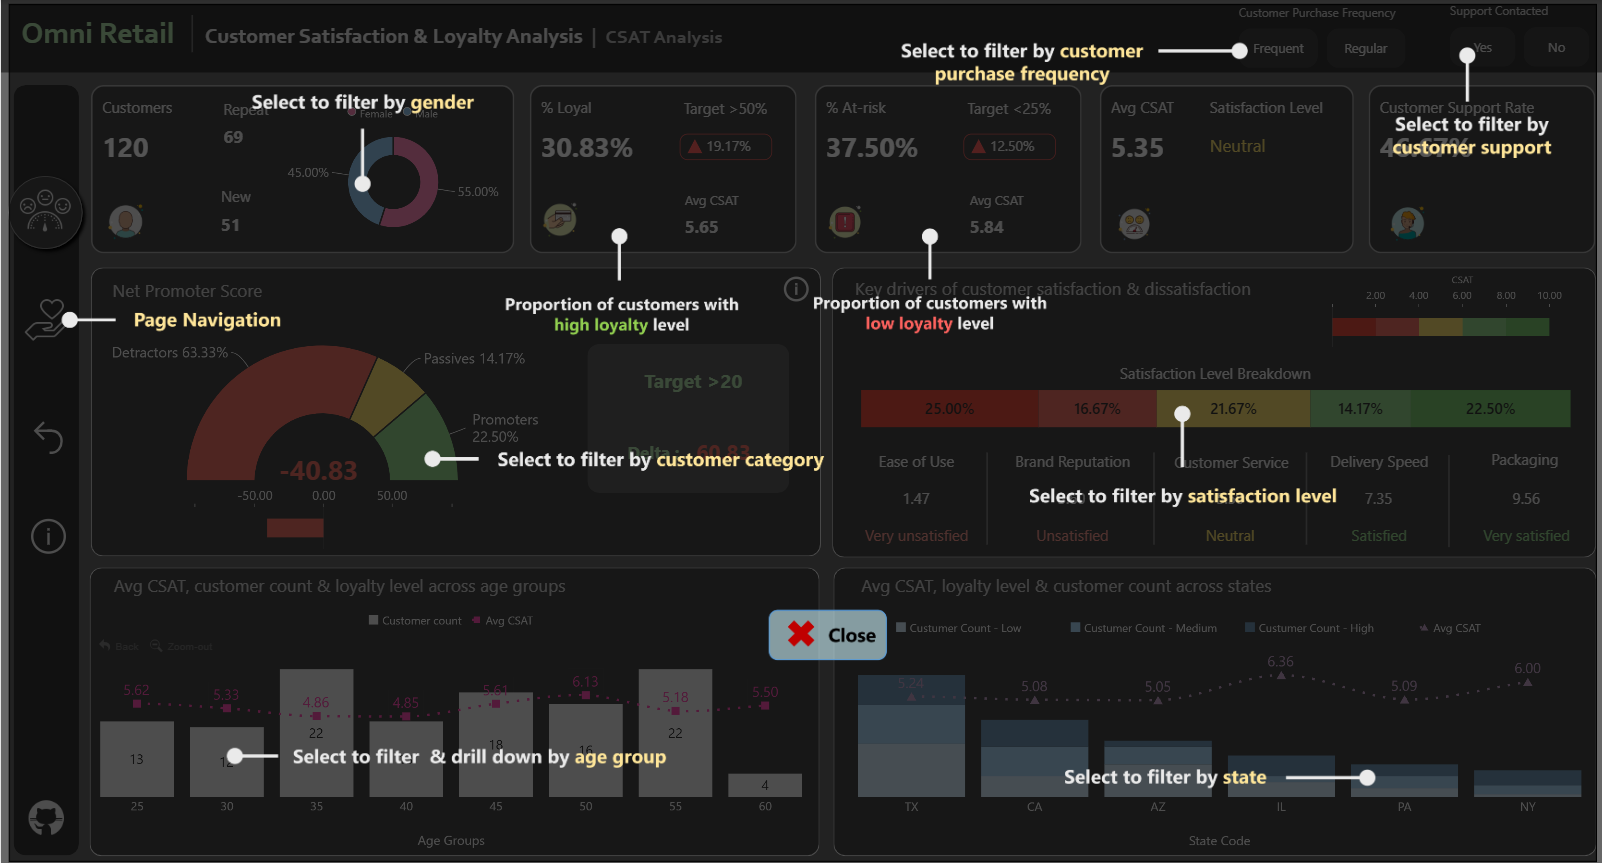

Layout of this report page (visuals, bound fields, positions):
{"tool":"powerbi","page":{"name":"CSAT Analysis","canvas":[1920,1080],"ordinal":0},"visuals":[{"type":"shape","title":"Header","box":[0,0,1920,90],"z":0},{"type":"cardVisual","fields":{"Data":["_KPIs.avg_statisfaction_score"]},"box":[1278.4,105.7,317.9,210],"z":0,"group":"g7"},{"type":"cardVisual","title":"Customer Support Rate ","fields":{"Data":["_KPIs.customer_support_rate"]},"box":[1614.6,105.7,283.6,210],"z":0,"group":"g13"},{"type":"cardVisual","fields":{"Data":["_KPIs.customer_count"]},"box":[20.3,105.8,528.3,210],"z":0,"group":"g1"},{"type":"cardVisual","fields":{"Data":["_KPIs.at-risk %"]},"box":[923.3,105.9,333.3,210],"z":0,"group":"g6"},{"type":"cardVisual","fields":{"Data":["_KPIs.loyal %"]},"box":[568.6,106.2,333.3,210],"z":0,"group":"g3"},{"type":"textbox","box":[1108.1,117.6,125,45],"z":0,"group":"g2"},{"type":"textbox","box":[755.6,117.9,125,45],"z":0,"group":"g4"},{"type":"shape","box":[945.9,332.7,952.5,361.7],"z":0,"group":"g10"},{"type":"shape","box":[20.4,333.6,910.3,360.1],"z":0,"group":"g9"},{"type":"cardVisual","fields":{"Data":["Min(Customer Satisfaction.Satisfaction_Factor)"]},"box":[963.5,535,175.2,69.5],"z":0,"group":"g8"},{"type":"shape","box":[1117.5,564.1,43.4,114.8],"z":0,"group":"g5"},{"type":"shape","box":[20,706.7,910,360],"z":0,"group":"g11"},{"type":"shape","box":[946.7,706.7,951.7,360],"z":0,"group":"g12"},{"type":"textbox","title":"Omni Retail","box":[20,13.3,276.7,65],"z":1000},{"type":"cardVisual","fields":{"Data":["_KPIs.Avg_Satisfaction_Level"]},"box":[1415.1,105.7,180,103.3],"z":1000,"group":"g7"},{"type":"card","fields":{"Values":["_KPIs.at-risk target display"]},"box":[1108.1,166.8,115.5,32.7],"z":1000,"group":"g2"},{"type":"card","fields":{"Values":["_KPIs.loyalty target display"]},"box":[755.6,168.5,115.5,32.7],"z":1000,"group":"g4"},{"type":"cardVisual","fields":{"Data":["_KPIs.new_cust_count"]},"box":[165.1,212.5,120,98.3],"z":1000,"group":"g1"},{"type":"cardVisual","fields":{"Data":["_KPIs.at-risk_avg_csat"]},"box":[1099.5,222,116.7,88.3],"z":1000,"group":"g6"},{"type":"cardVisual","fields":{"Data":["_KPIs.loyal_avg_satisfaction"]},"box":[745.1,222.3,116.7,88.3],"z":1000,"group":"g3"},{"type":"image","box":[1622,246.2,80,63.3],"z":1000,"group":"g13"},{"type":"ZoomChartsPieChartPaidE77E4ED357DC402ABA005987437CF500","fields":{"Values":["_KPIs.customer_count"],"Category":["Customer Category.Customer Category"],"tooltipContent":["All Measures.avg_statisfaction_score"]},"box":[20.3,355,576.8,320.5],"z":1000,"group":"g9"},{"type":"hundredPercentStackedBarChart","fields":{"Y":["_KPIs.customer_count"],"Series":["satisfaction_order.satisfaction_level"]},"box":[977.1,410.6,894.8,191.7],"z":1000,"group":"g10"},{"type":"cardVisual","fields":{"Data":["Min(Customer Satisfaction.Satisfaction_Factor)"]},"box":[1143.7,535,203.5,69.5],"z":1000,"group":"g8"},{"type":"shape","box":[1326,564.1,41.7,114.8],"z":1000,"group":"g5"},{"type":"ZoomChartsFacetChartPaidE77E4ED357DC402ABA005987437CF500","fields":{"Values1":["_KPIs.customer_count"],"Category":["Customer Satisfaction.Age (bins)","Loyalty Level.Loyalty level"],"Values2":["_KPIs.avg_statisfaction_score"],"tooltipContent":["_KPIs.avg_statisfaction_score"]},"box":[18.3,755.6,905,306.7],"z":1000,"group":"g11"},{"type":"ZoomChartsFacetChartPaidE77E4ED357DC402ABA005987437CF500","fields":{"Values1":["_KPIs.customer_count"],"Category":["Location.State"],"Values2":["_KPIs.avg_statisfaction_score"],"Legend":["Loyalty Level.Loyalty level"],"tooltipContent":["_KPIs.avg_statisfaction_score"]},"box":[961.7,765,931.7,298.3],"z":1000,"group":"g12"},{"type":"group","id":"g1","title":"Customer","box":[20.3,105.5,528.3,210.3],"z":2000},{"type":"cardVisual","fields":{"Data":["_KPIs.repeat_cust_count"]},"box":[168.6,105.5,116.4,89.1],"z":2000,"group":"g1"},{"type":"group","id":"g2","title":"Target group","box":[1108.1,117.6,125,81.9],"z":2000,"group":"g6"},{"type":"shape","box":[764.7,173.9,19.1,18.2],"z":2000,"group":"g4"},{"type":"shape","box":[1117.2,174.1,19.1,18.2],"z":2000,"group":"g2"},{"type":"image","box":[575.3,237.9,63.3,75],"z":2000,"group":"g3"},{"type":"image","box":[1285.7,248.4,71.2,60],"z":2000,"group":"g7"},{"type":"textbox","box":[1284.4,447,279,39],"z":2000,"group":"g10"},{"type":"cardVisual","fields":{"Data":["Min(Customer Satisfaction.Satisfaction_Factor)"]},"box":[1356.9,535,176,71],"z":2000,"group":"g8"},{"type":"shape","box":[1516.2,564.1,41.7,114.8],"z":2000,"group":"g5"},{"type":"textbox","box":[976.7,710,620,65],"z":2000,"group":"g12"},{"type":"textbox","box":[32,710.4,606.7,65],"z":2000,"group":"g11"},{"type":"group","id":"g3","title":"Loyal %","box":[568.6,106.2,333.3,210],"z":3000},{"type":"group","id":"g4","title":"Target group","box":[755.6,117.9,125,83.3],"z":3000,"group":"g3"},{"type":"image","box":[32,237.9,65,76.7],"z":3000,"group":"g1"},{"type":"image","box":[930.3,246.2,63.3,61.7],"z":3000,"group":"g6"},{"type":"textbox","box":[42.6,343,368.4,56.9],"z":3000,"group":"g9"},{"type":"cardVisual","fields":{"Data":["Min(Customer Satisfaction.Satisfaction_Factor)"]},"box":[1542.3,535,173.5,69.5],"z":3000,"group":"g8"},{"type":"group","id":"g5","title":"Vertical Lines","box":[1117.5,564.1,618.9,117.8],"z":3000,"group":"g10"},{"type":"shape","box":[1694.7,567.1,41.7,114.8],"z":3000,"group":"g5"},{"type":"group","id":"g6","title":"At-risk","box":[923.3,105.9,333.3,210],"z":4000},{"type":"ZoomChartsPieChartPaidE77E4ED357DC402ABA005987437CF500","fields":{"Values":["_KPIs.customer_count"],"Category":["Customer Demographics.Gender"]},"box":[257,122.9,280,180],"z":4000,"group":"g1"},{"type":"textbox","box":[969.6,338.9,585.5,67.8],"z":4000,"group":"g10"},{"type":"cardVisual","fields":{"Data":["Min(Customer Satisfaction.Satisfaction_Factor)"]},"box":[1728,535,165.3,65.4],"z":4000,"group":"g8"},{"type":"ZoomChartsDrillDownComboBarProE77E4ED357DC402ABA005987437CF8","fields":{"Values1":["_KPIs.NPS"]},"box":[113.3,603,373.4,87],"z":4000,"group":"g9"},{"type":"group","id":"g7","title":"Avg CSAT","box":[1278.4,105.7,317.9,210],"z":5000},{"type":"group","id":"g8","title":"Satisfaction Factor","box":[963.5,535,932.5,158.8],"z":5000,"group":"g10"},{"type":"card","fields":{"Values":["_KPIs.NPS"]},"box":[237,550,135,70.6],"z":5000,"group":"g9"},{"type":"cardVisual","fields":{"Data":["_KPIs.avg_statisfaction_score"]},"box":[1729.2,583,166.8,64.3],"z":5000,"group":"g8"},{"type":"image","box":[622,438,280.6,227.6],"z":5500,"group":"g9"},{"type":"group","id":"g9","title":"NPS","box":[20.3,333.6,910.4,360.1],"z":6000},{"type":"textbox","box":[963.5,648.6,176.8,45.2],"z":6000,"group":"g8"},{"type":"group","id":"g10","title":"Satisfaction group","box":[945.9,332.7,952.5,361.7],"z":7000},{"type":"textbox","box":[1143.7,648.6,203.5,45.2],"z":7000,"group":"g8"},{"type":"shape","title":"Grey divider","box":[245,21.7,43.3,46.7],"z":8000},{"type":"textbox","box":[1352.2,648.6,181.8,45.2],"z":8000,"group":"g8"},{"type":"textbox","title":"Report Title","box":[283.3,21.7,825,56.7],"z":9000},{"type":"textbox","box":[1542.3,648.6,173.5,45.2],"z":9000,"group":"g8"},{"type":"actionButton","title":"Info","box":[1835,23.3,65,50],"z":10000},{"type":"textbox","box":[1729.2,648.6,166.8,45.2],"z":10000,"group":"g8"},{"type":"actionButton","title":"Reset","box":[1756.7,23.3,63.3,46.7],"z":11000},{"type":"cardVisual","fields":{"Data":["_KPIs.avg_statisfaction_score"]},"box":[1540.7,583,175.2,64.3],"z":11000,"group":"g8"},{"type":"advancedSlicerVisual","title":"Customer Purchase Frequency","fields":{"Values":["Customer Satisfaction.Purchase_Frequency"]},"box":[1140.1,4.9,282.2,78.3],"z":12000},{"type":"cardVisual","fields":{"Data":["_KPIs.avg_statisfaction_score"]},"box":[1350.5,583,185.2,64.3],"z":12000,"group":"g8"},{"type":"cardVisual","fields":{"Data":["_KPIs.avg_statisfaction_score"]},"box":[1143.7,583,201.8,64.3],"z":13000,"group":"g8"},{"type":"group","id":"g11","title":"Avg CSAT-Age Groups","box":[18.3,706.7,911.7,360],"z":13000},{"type":"cardVisual","fields":{"Data":["_KPIs.avg_statisfaction_score"]},"box":[963.5,583,175.2,64.3],"z":14000,"group":"g8"},{"type":"group","id":"g12","title":"Loyalty-State","box":[946.7,706.7,951.7,360],"z":14000},{"type":"group","id":"g13","title":"Customer Support Rate","box":[1614.6,105.7,283.6,210],"z":15000},{"type":"advancedSlicerVisual","title":"Support Contacted","fields":{"Values":["Customer Satisfaction.Support_Contacted"]},"box":[1446.7,5,280,78.3],"z":15500},{"type":"ZoomChartsDrillDownComboBarProE77E4ED357DC402ABA005987437CF8","title":"CSAT Scale 2","fields":{"Values1":["Count(Customer Satisfaction.Satisfaction_Score)"],"Legend":["satisfaction_order.satisfaction_level"]},"box":[1563.6,332,335.2,106],"z":16000},{"type":"ZoomChartsDrillDownComboBarProE77E4ED357DC402ABA005987437CF8","title":"CSAT Scale 1","fields":{"Values1":["Count(Customer Satisfaction.Satisfaction_Score)"],"Legend":["Customer Category.Customer Category"]},"box":[606.4,333.6,324.3,104.4],"z":17000}]}

Visuals, with their boxes on the page's 1920x1080 design canvas (x1, y1, x2, y2). These are canvas units, not pixel positions in the 1602x863 screenshot, which may show the page scaled, cropped or inside an application window:
"Header" shape: 0, 0, 1920, 90
cardVisual - _KPIs.avg_statisfaction_score: 1278, 106, 1596, 316
"Customer Support Rate " cardVisual: 1615, 106, 1898, 316
cardVisual - _KPIs.customer_count: 20, 106, 549, 316
cardVisual - _KPIs.at-risk %: 923, 106, 1257, 316
cardVisual - _KPIs.loyal %: 569, 106, 902, 316
textbox: 1108, 118, 1233, 163
textbox: 756, 118, 881, 163
shape: 946, 333, 1898, 694
shape: 20, 334, 931, 694
cardVisual - Min(Customer Satisfaction.Satisfaction_Factor): 964, 535, 1139, 604
shape: 1118, 564, 1161, 679
shape: 20, 707, 930, 1067
shape: 947, 707, 1898, 1067
"Omni Retail" textbox: 20, 13, 297, 78
cardVisual - _KPIs.Avg_Satisfaction_Level: 1415, 106, 1595, 209
card - _KPIs.at-risk target display: 1108, 167, 1224, 200
card - _KPIs.loyalty target display: 756, 168, 871, 201
cardVisual - _KPIs.new_cust_count: 165, 212, 285, 311
cardVisual - _KPIs.at-risk_avg_csat: 1100, 222, 1216, 310
cardVisual - _KPIs.loyal_avg_satisfaction: 745, 222, 862, 311
image: 1622, 246, 1702, 310
ZoomChartsPieChartPaidE77E4ED357DC402ABA005987437CF500 - _KPIs.customer_count x Customer Category.Customer Category: 20, 355, 597, 676
hundredPercentStackedBarChart - _KPIs.customer_count x satisfaction_order.satisfaction_level: 977, 411, 1872, 602
cardVisual - Min(Customer Satisfaction.Satisfaction_Factor): 1144, 535, 1347, 604
shape: 1326, 564, 1368, 679
ZoomChartsFacetChartPaidE77E4ED357DC402ABA005987437CF500 - _KPIs.customer_count x Customer Satisfaction.Age (bins): 18, 756, 923, 1062
ZoomChartsFacetChartPaidE77E4ED357DC402ABA005987437CF500 - _KPIs.customer_count x Location.State: 962, 765, 1893, 1063
"Customer" group: 20, 106, 549, 316
cardVisual - _KPIs.repeat_cust_count: 169, 106, 285, 195
"Target group" group: 1108, 118, 1233, 200
shape: 765, 174, 784, 192
shape: 1117, 174, 1136, 192
image: 575, 238, 639, 313
image: 1286, 248, 1357, 308
textbox: 1284, 447, 1563, 486
cardVisual - Min(Customer Satisfaction.Satisfaction_Factor): 1357, 535, 1533, 606
shape: 1516, 564, 1558, 679
textbox: 977, 710, 1597, 775
textbox: 32, 710, 639, 775
"Loyal %" group: 569, 106, 902, 316
"Target group" group: 756, 118, 881, 201
image: 32, 238, 97, 315
image: 930, 246, 994, 308
textbox: 43, 343, 411, 400
cardVisual - Min(Customer Satisfaction.Satisfaction_Factor): 1542, 535, 1716, 604
"Vertical Lines" group: 1118, 564, 1736, 682
shape: 1695, 567, 1736, 682
"At-risk" group: 923, 106, 1257, 316
ZoomChartsPieChartPaidE77E4ED357DC402ABA005987437CF500 - _KPIs.customer_count x Customer Demographics.Gender: 257, 123, 537, 303
textbox: 970, 339, 1555, 407
cardVisual - Min(Customer Satisfaction.Satisfaction_Factor): 1728, 535, 1893, 600
ZoomChartsDrillDownComboBarProE77E4ED357DC402ABA005987437CF8 - _KPIs.NPS: 113, 603, 487, 690
"Avg CSAT" group: 1278, 106, 1596, 316
"Satisfaction Factor" group: 964, 535, 1896, 694
card - _KPIs.NPS: 237, 550, 372, 621
cardVisual - _KPIs.avg_statisfaction_score: 1729, 583, 1896, 647
image: 622, 438, 903, 666
"NPS" group: 20, 334, 931, 694
textbox: 964, 649, 1140, 694
"Satisfaction group" group: 946, 333, 1898, 694
textbox: 1144, 649, 1347, 694
"Grey divider" shape: 245, 22, 288, 68
textbox: 1352, 649, 1534, 694
"Report Title" textbox: 283, 22, 1108, 78
textbox: 1542, 649, 1716, 694
"Info" actionButton: 1835, 23, 1900, 73
textbox: 1729, 649, 1896, 694
"Reset" actionButton: 1757, 23, 1820, 70
cardVisual - _KPIs.avg_statisfaction_score: 1541, 583, 1716, 647
"Customer Purchase Frequency" advancedSlicerVisual: 1140, 5, 1422, 83
cardVisual - _KPIs.avg_statisfaction_score: 1350, 583, 1536, 647
cardVisual - _KPIs.avg_statisfaction_score: 1144, 583, 1346, 647
"Avg CSAT-Age Groups" group: 18, 707, 930, 1067
cardVisual - _KPIs.avg_statisfaction_score: 964, 583, 1139, 647
"Loyalty-State" group: 947, 707, 1898, 1067
"Customer Support Rate" group: 1615, 106, 1898, 316
"Support Contacted" advancedSlicerVisual: 1447, 5, 1727, 83
"CSAT Scale 2" ZoomChartsDrillDownComboBarProE77E4ED357DC402ABA005987437CF8: 1564, 332, 1899, 438
"CSAT Scale 1" ZoomChartsDrillDownComboBarProE77E4ED357DC402ABA005987437CF8: 606, 334, 931, 438
